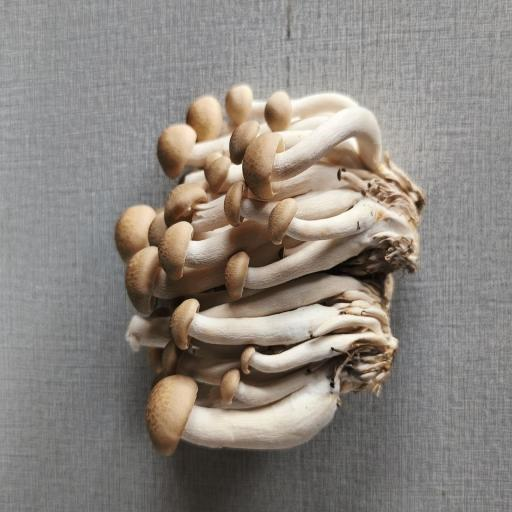Enoki Mushroom: (102, 73, 440, 477)
